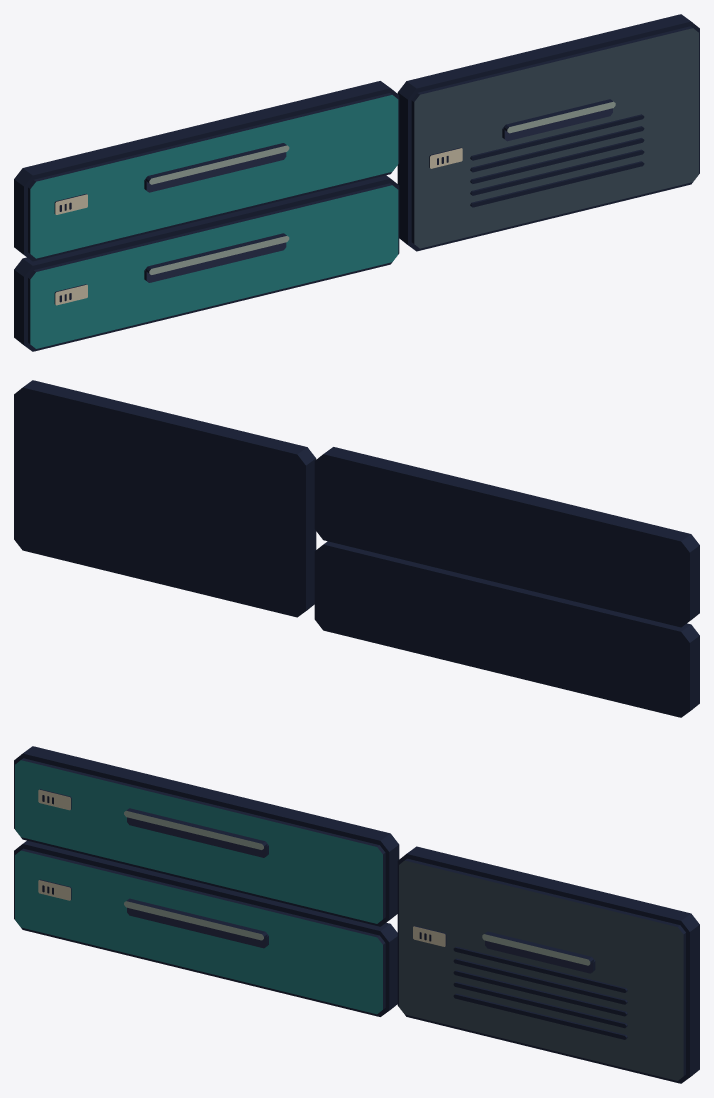
Rendered from bench_drawers.glb.
The picture shows the model from 3 angles, top to bottom: view 1: azimuth 30°, elevation 25°; view 2: azimuth 150°, elevation 25°; view 3: azimuth 330°, elevation 25°; orthographic projection.
Parts seen in each view (by area): view 1: Enamel_fronts, Drawer_reveals, Vent_slots, Recessed_grips, Index_holders; view 2: Drawer_reveals; view 3: Enamel_fronts, Drawer_reveals, Vent_slots, Recessed_grips, Index_holders.
Boxes of the visible parts, x1=… form: Enamel_fronts: x1=28, y1=26, x2=698, y2=348; Drawer_reveals: x1=14, y1=14, x2=699, y2=351; Vent_slots: x1=470, y1=114, x2=644, y2=207; Recessed_grips: x1=146, y1=99, x2=615, y2=274; Index_holders: x1=54, y1=147, x2=462, y2=305; Drawer_reveals: x1=14, y1=380, x2=699, y2=717; Enamel_fronts: x1=15, y1=758, x2=685, y2=1080; Drawer_reveals: x1=14, y1=746, x2=699, y2=1083; Vent_slots: x1=453, y1=946, x2=627, y2=1039; Recessed_grips: x1=124, y1=808, x2=593, y2=965; Index_holders: x1=38, y1=789, x2=446, y2=946.
Size of the model in its own units: 2.11 by 0.527 by 0.096.
